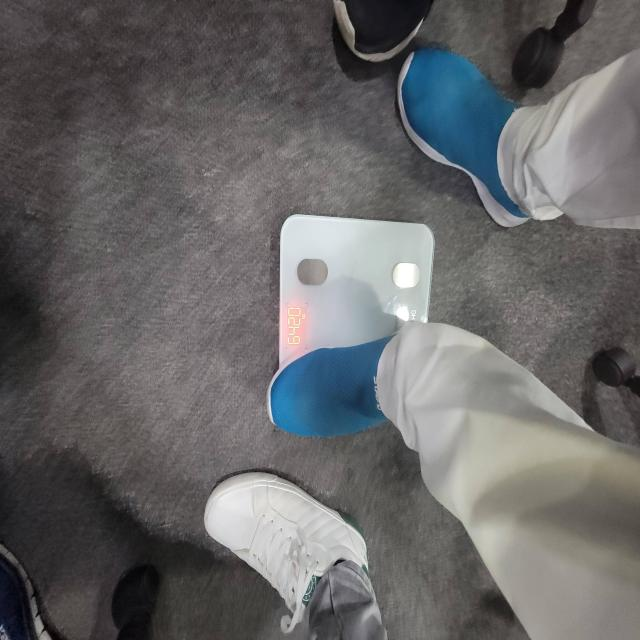ws: (279, 216, 435, 375)
